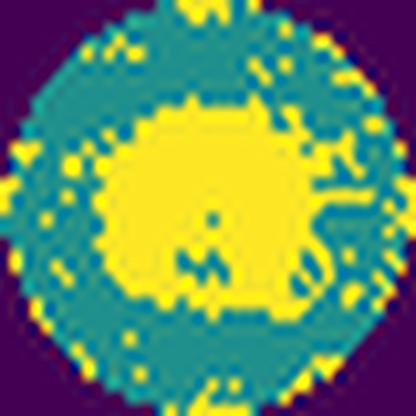Center: (93, 99, 369, 323)
